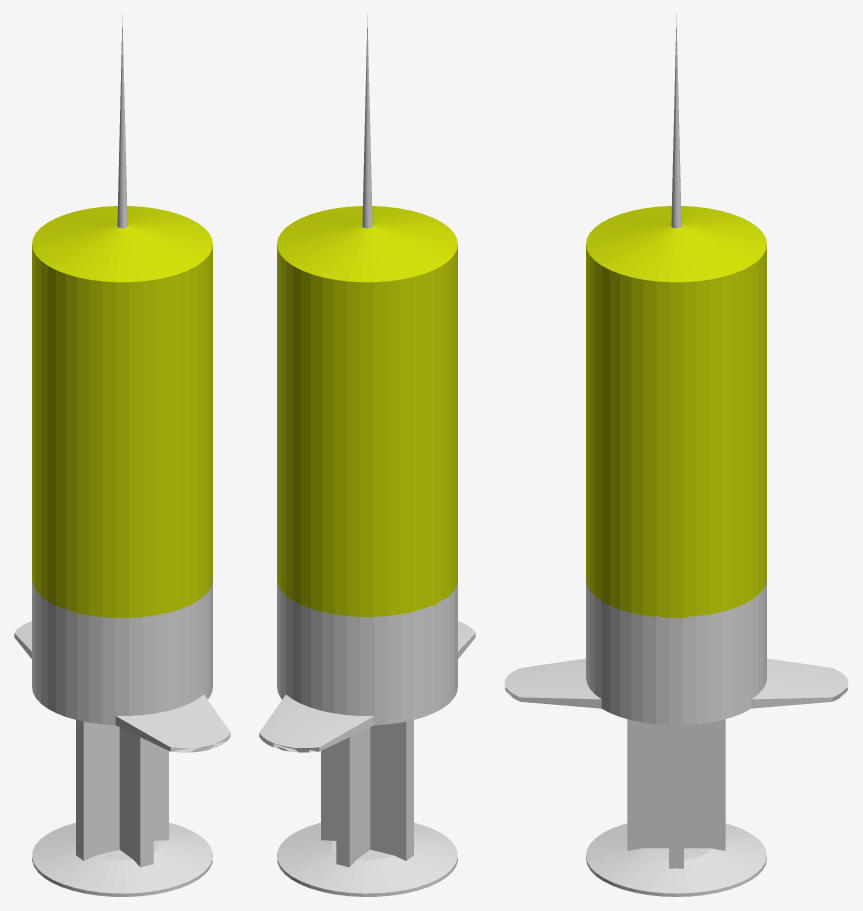
3 views of the same model, side by side, from view 1: azimuth 30°, elevation 25°; view 2: azimuth 150°, elevation 25°; view 3: azimuth 270°, elevation 25° (orthographic).
Parts seen in each view (by area): view 1: Цилиндр, Окружность; view 2: Цилиндр, Окружность; view 3: Цилиндр, Окружность.
Part boxes in pixels (<box>): Цилиндр: <box>32,206,212,617</box>; Окружность: <box>14,14,230,896</box>; Цилиндр: <box>277,206,457,616</box>; Окружность: <box>259,14,475,896</box>; Цилиндр: <box>586,206,766,617</box>; Окружность: <box>504,14,848,896</box>.
Size of the model in its own units: 200 by 1030 by 380.
